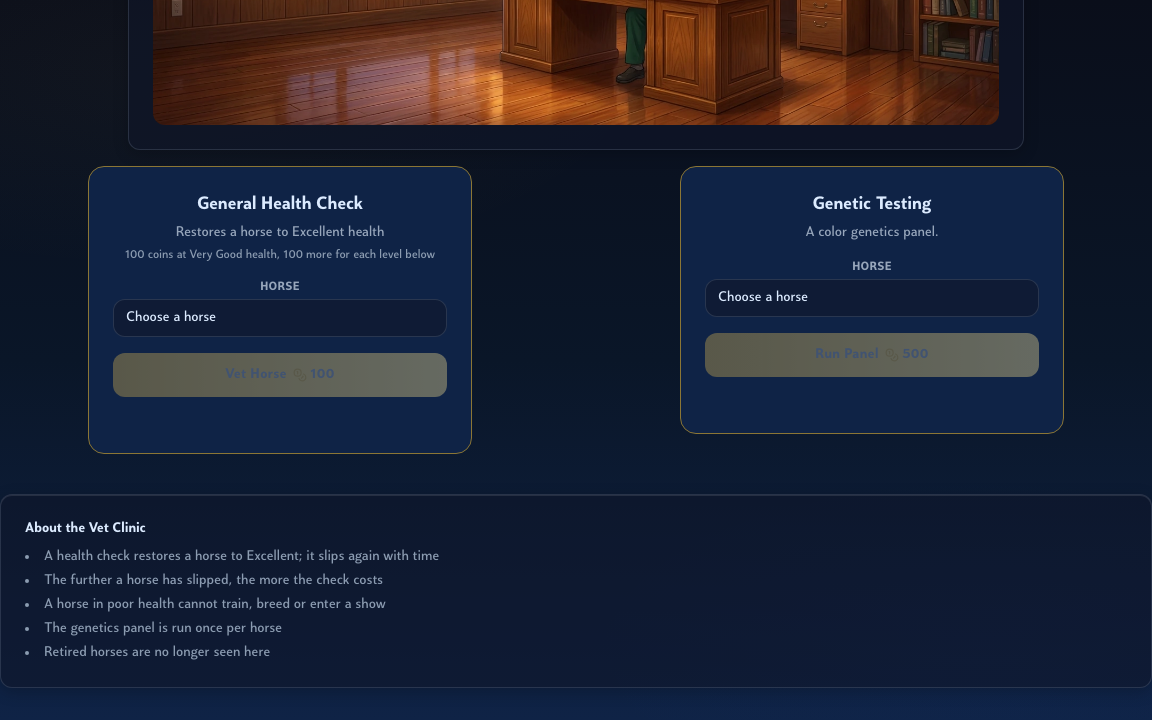
Test case: VeterinarianPage (Equoria-7dmzp) › keeps the button disabled until a horse is chosen, then books it
(page scrolled)
Expected: the button "Vet Horse 100" is disabled, [113, 353, 447, 397]
Select "Due Mare (Bad)" in the dropdown labelled "Horse" below "Restores a horse to Excellent health". click: (280, 318)
box: [113, 299, 447, 337]
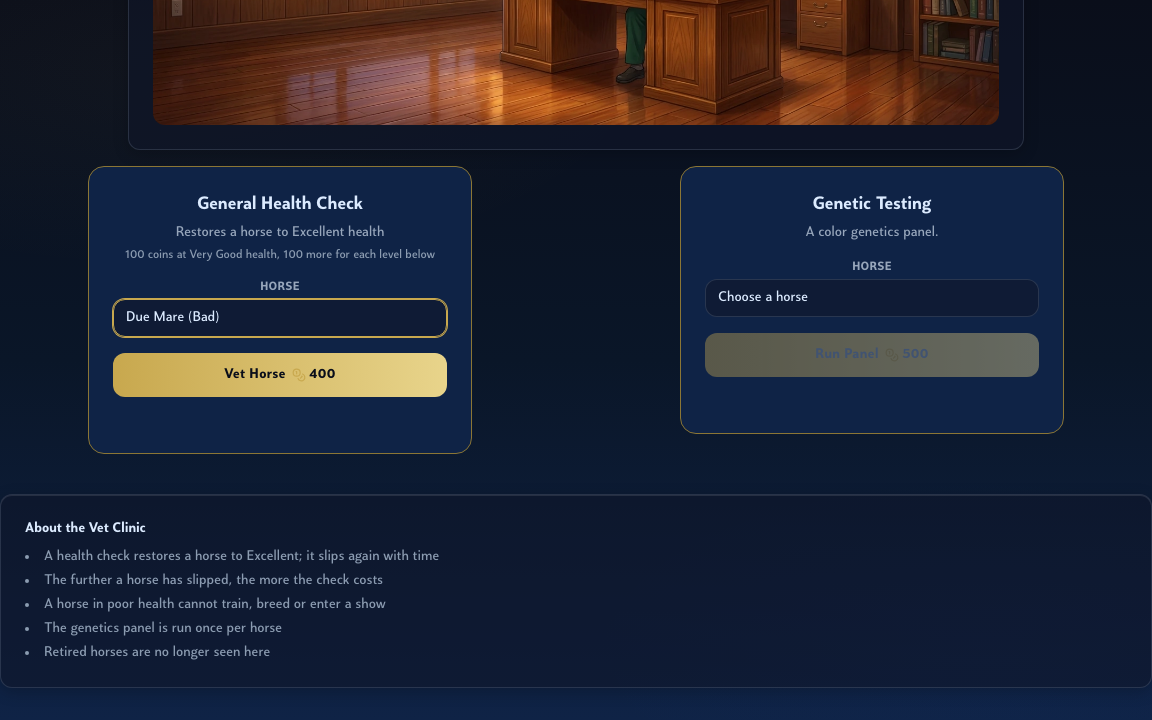
Now the button "Vet Horse 400" is enabled
Now the button "Vet Horse 400" is shown
Click the button "Vet Horse 400". click: (280, 375)
box: [113, 353, 447, 397]
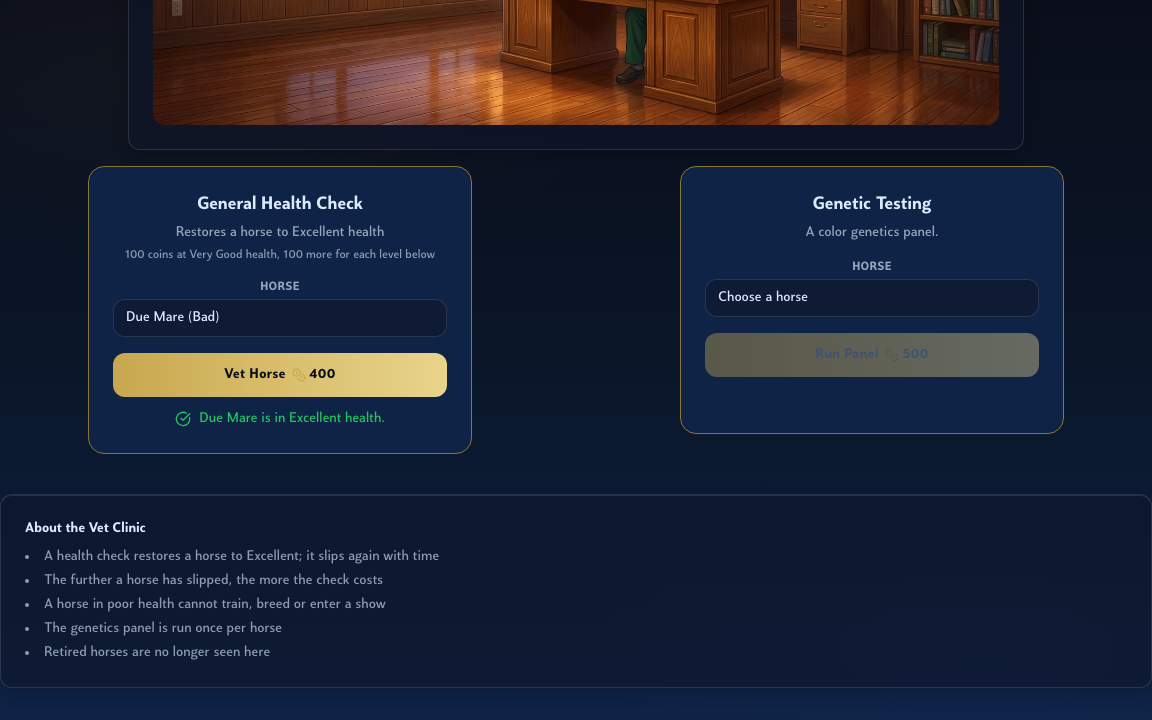
Now the text "Due Mare is in Excellent health." is shown, box [175, 411, 385, 427]
